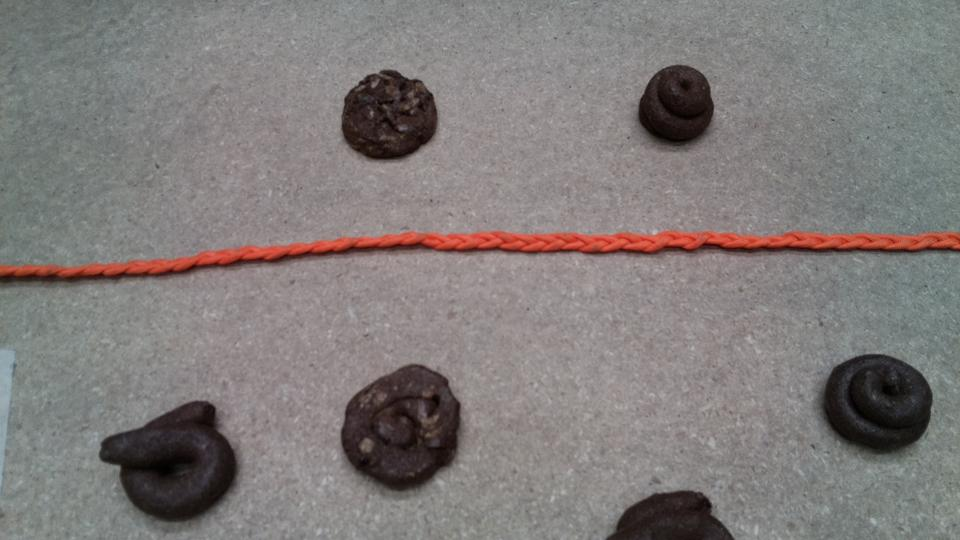poop: (95, 393, 257, 521), (337, 358, 473, 489), (823, 341, 936, 461), (338, 65, 444, 166), (632, 61, 727, 150)
rope: (3, 220, 960, 286)
